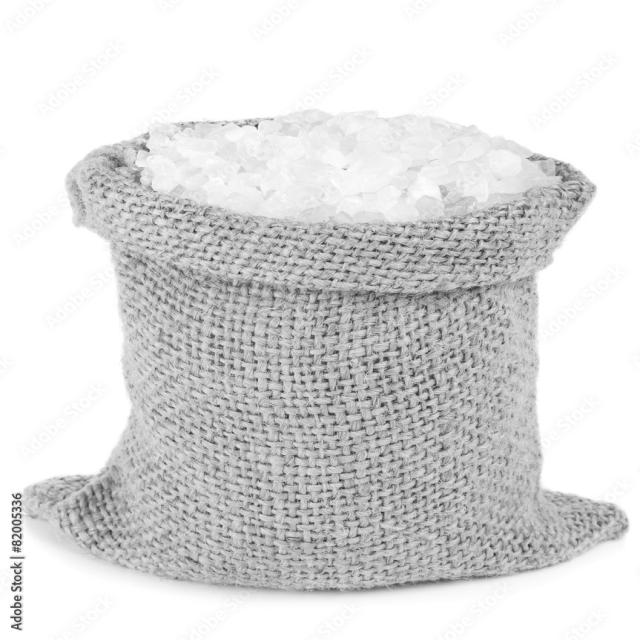sack: (21, 116, 626, 592)
